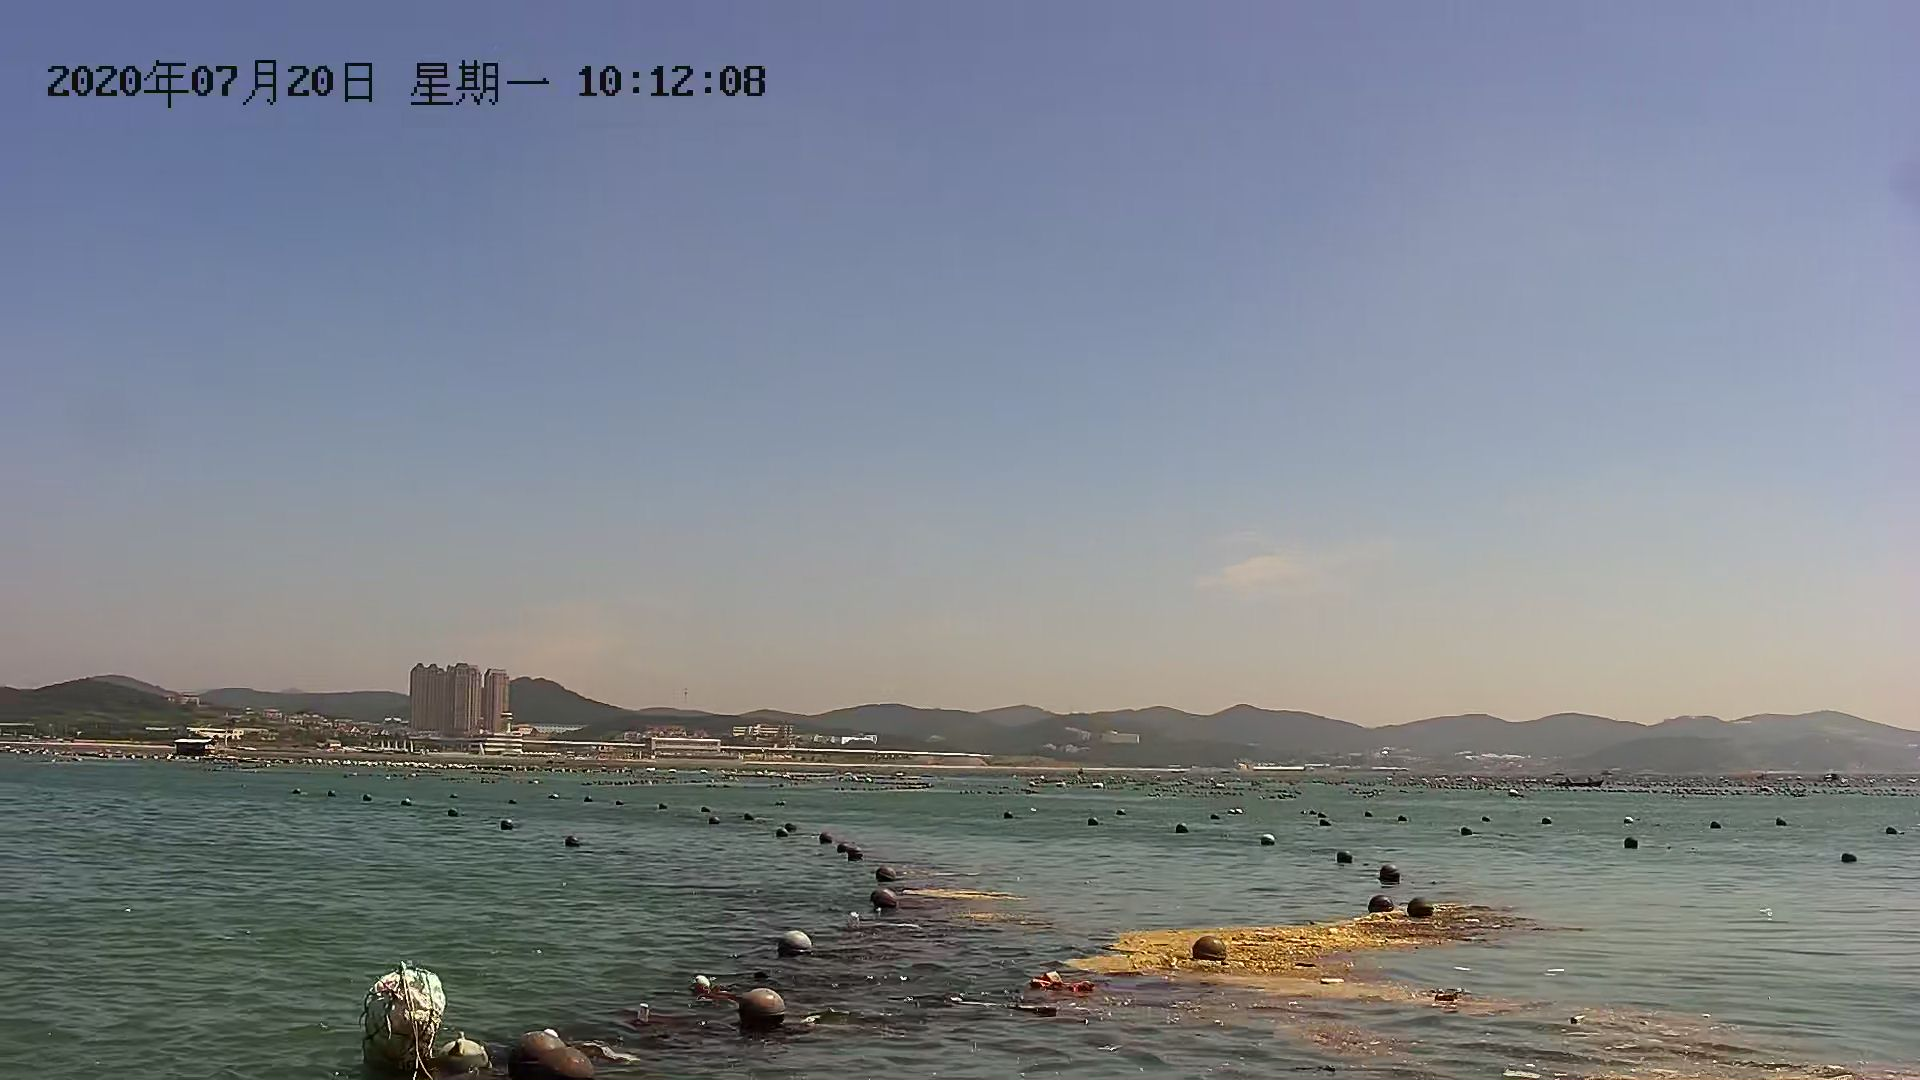ball: (735, 985, 793, 1039), (1187, 931, 1236, 969), (774, 927, 819, 967), (1400, 887, 1437, 926), (862, 884, 906, 915), (1364, 889, 1395, 918), (1374, 861, 1404, 887)
rubbish: (348, 960, 444, 1077)
